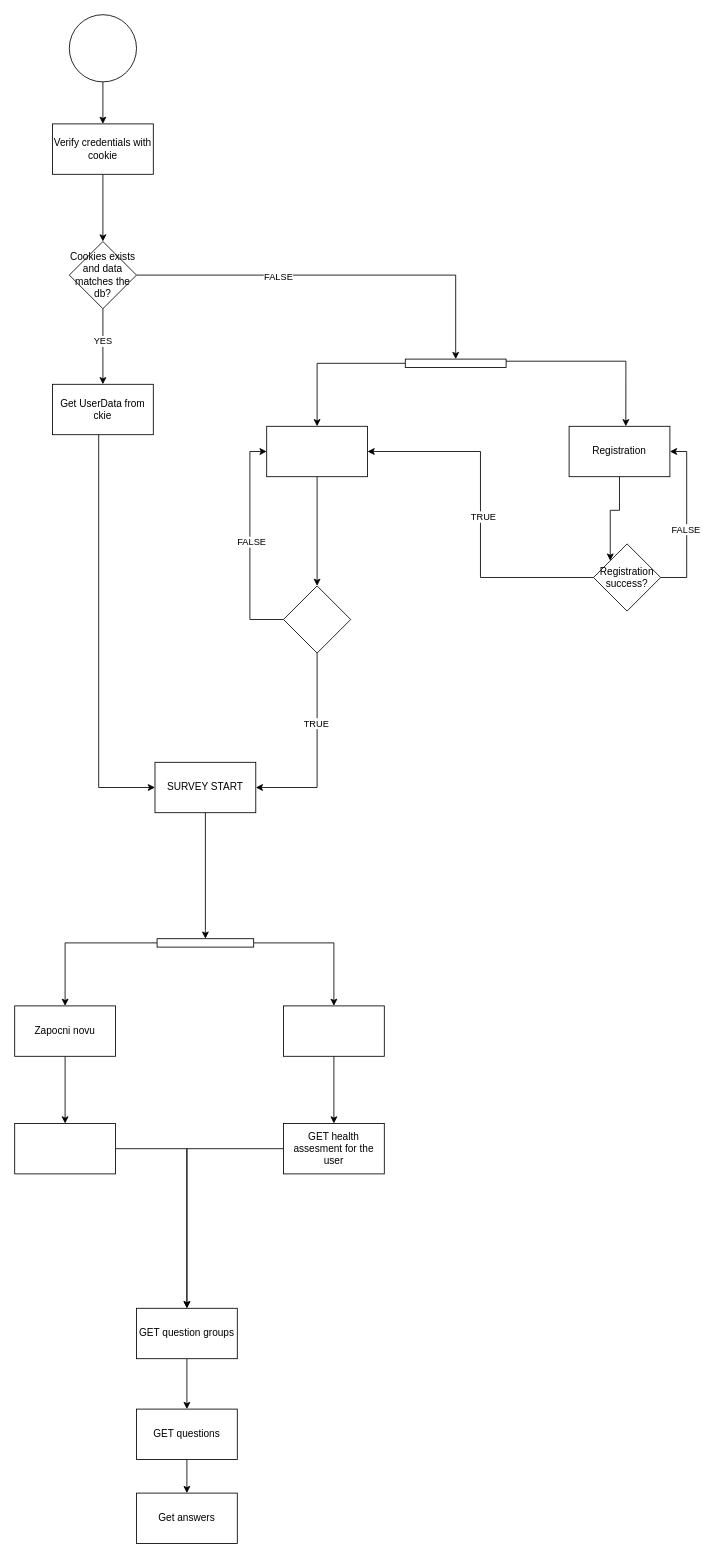
This 714x1558 diagram has some shape labels left out. The shapes that lost their labels are listed below. From the top down, each one's centre as x and y in pixels, then its label:
At (102,48): "START".
At (317,451): "Login".
At (317,619): "Login succes?".
At (333,1030): "Nastavi".
At (65,1148): "Create new health assesment for the user".
